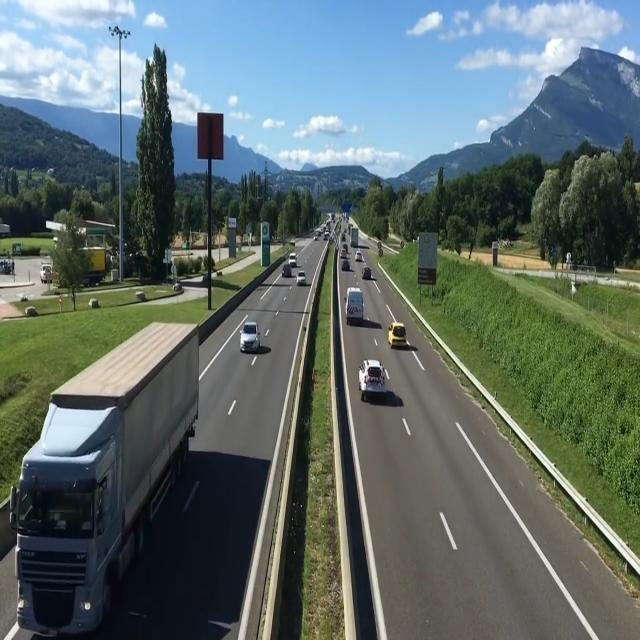Car: (358, 358, 386, 397), (239, 321, 261, 354), (388, 322, 406, 345), (296, 270, 306, 286), (281, 264, 292, 278), (362, 266, 372, 280)
Truck: (11, 315, 202, 632), (344, 287, 364, 321)
Van: (288, 252, 298, 266)
